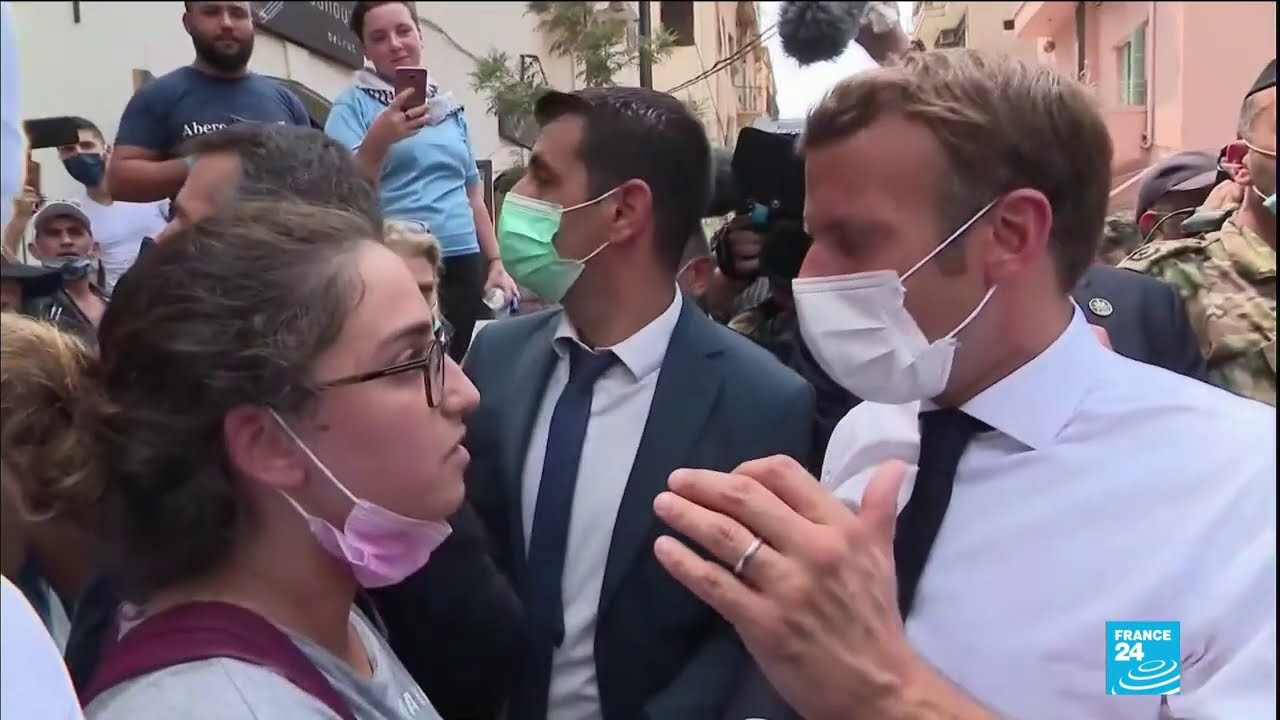with_mask: (804, 176, 927, 388), (519, 139, 580, 297)
without_mask: (358, 273, 463, 512), (367, 9, 416, 68), (194, 2, 245, 53)
